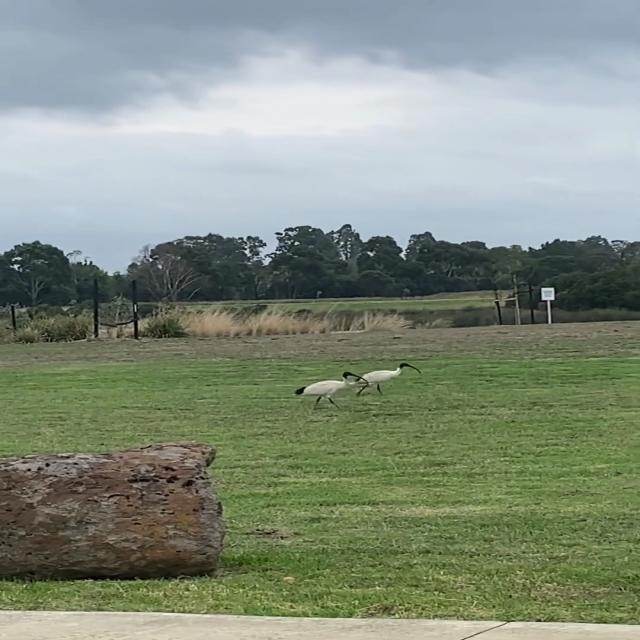Birds-Ibis: (292, 367, 369, 409), (354, 358, 424, 398)
